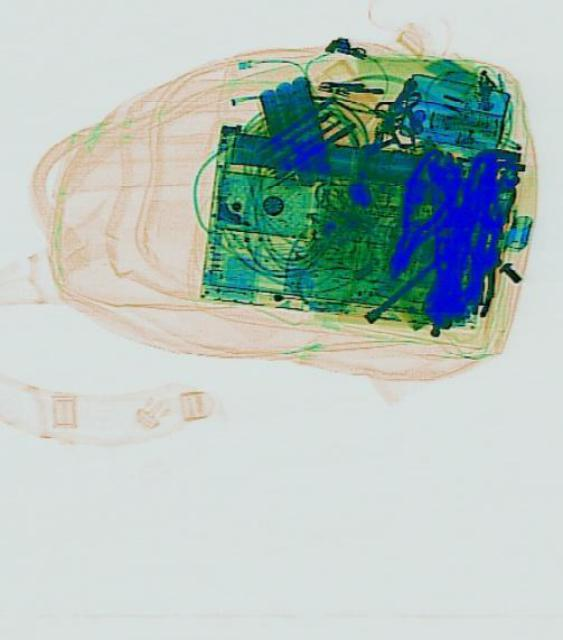Pliers: (367, 143, 468, 285)
